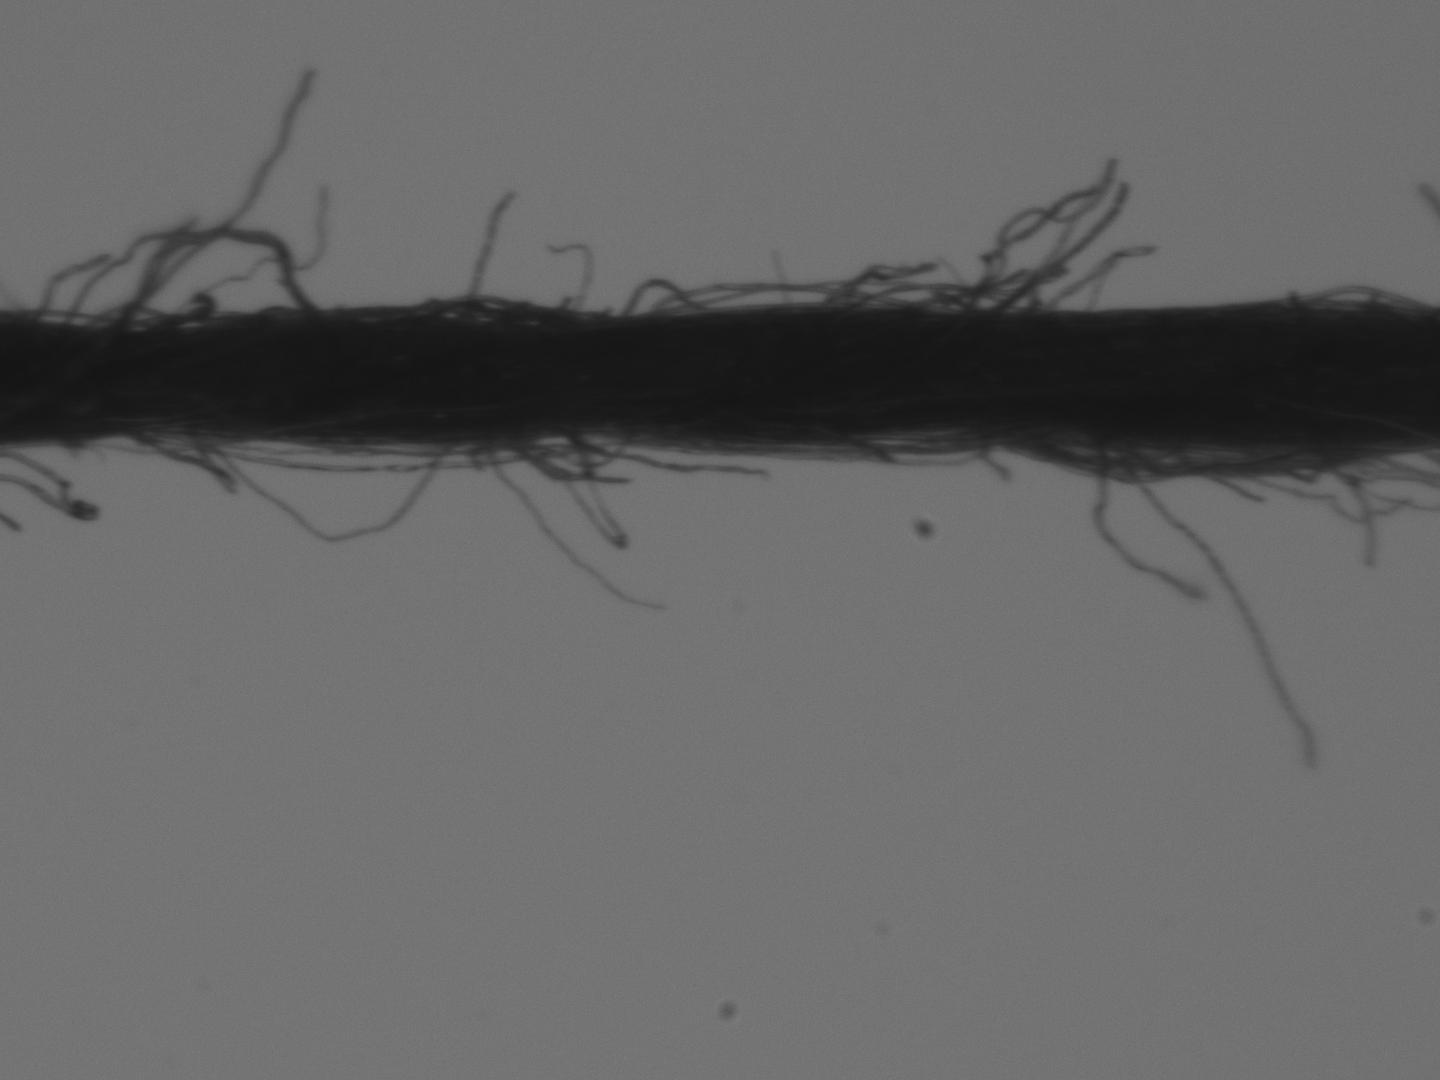loop_fiber: (205, 433, 458, 545), (105, 227, 322, 334), (1001, 432, 1306, 483), (848, 281, 1031, 315), (1123, 439, 1293, 473), (1279, 278, 1423, 312), (531, 422, 630, 470), (848, 437, 988, 471), (500, 433, 590, 484), (611, 276, 708, 319)
protruding_fiber: (1121, 448, 1316, 769), (120, 69, 313, 323), (993, 179, 1137, 317), (1093, 442, 1212, 606), (460, 191, 516, 312)
